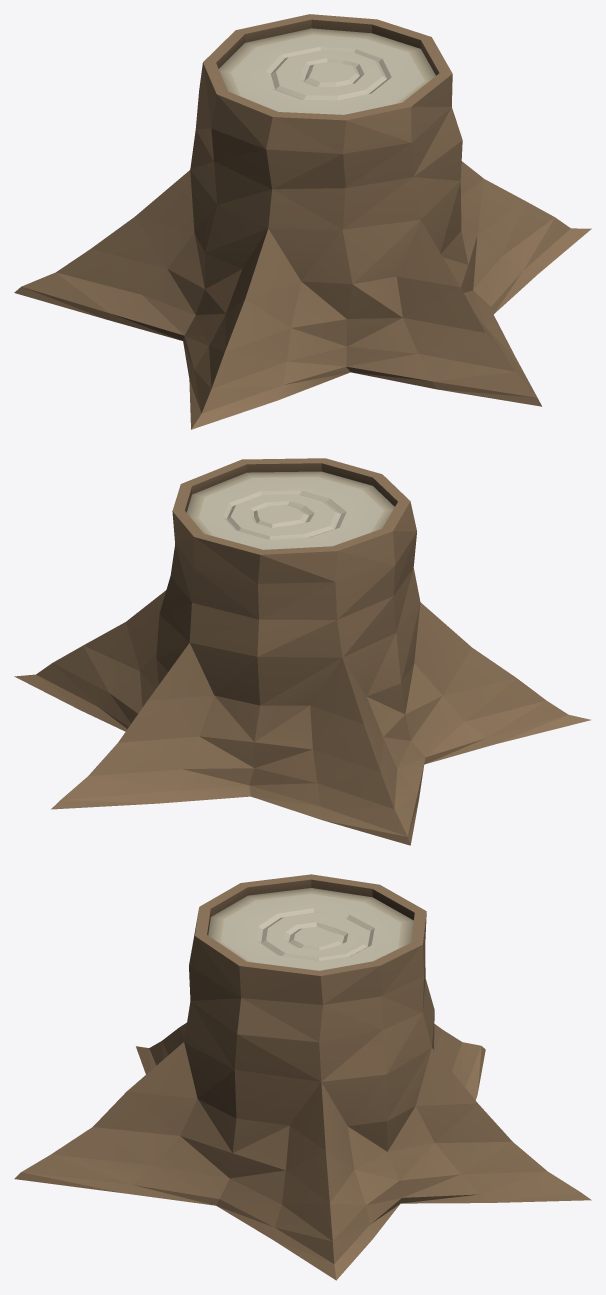
The model's file is stump.glb.
The picture shows the model from 3 angles, top to bottom: view 1: azimuth 30°, elevation 25°; view 2: azimuth 150°, elevation 25°; view 3: azimuth 270°, elevation 25°; orthographic projection. The views are drawn at different scales.
Visible parts, largest first — view 1: stump.001; view 2: stump.001; view 3: stump.001.
Boxes of the visible parts, x1,y1,x2,y2 form: stump.001: (14,14,591,429); stump.001: (14,458,590,845); stump.001: (14,874,591,1280).
Bounding box in the file's own units: 1.33 × 0.6 × 1.39.
